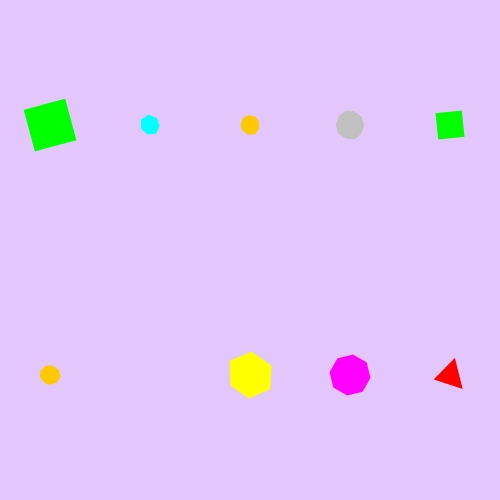decagon: (331, 108, 369, 143)
heptagon: (136, 111, 165, 139)
hexagon: (222, 352, 278, 399)
nonagon: (236, 111, 265, 139), (36, 361, 65, 389)
octagon: (326, 351, 375, 400)
quadrilateral: (17, 92, 83, 158), (428, 103, 472, 147)
triangle: (433, 357, 468, 394)
